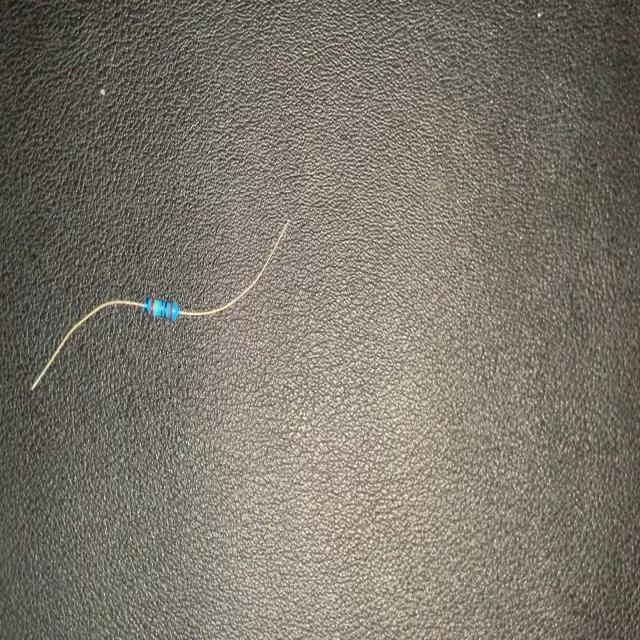resistor: (32, 220, 289, 386)
